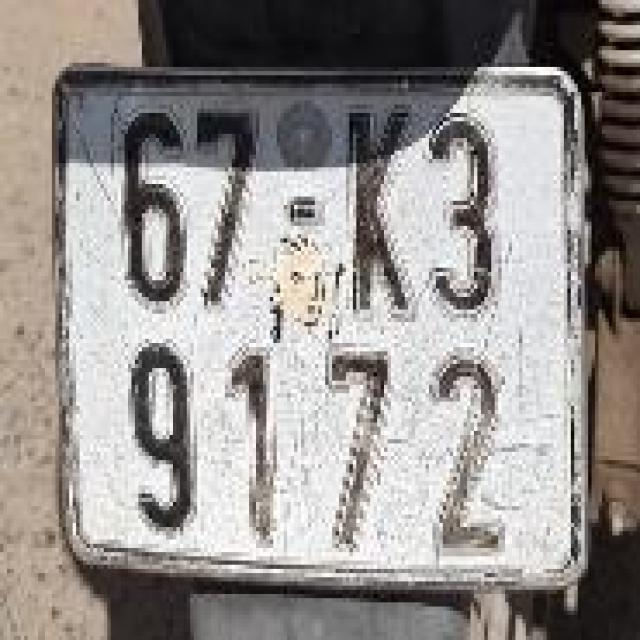1: (218, 328, 287, 562)
2: (426, 337, 516, 562)
3: (426, 96, 512, 322)
6: (104, 96, 194, 310)
7: (320, 339, 406, 569), (187, 82, 266, 299)
9: (107, 320, 211, 558)
K: (329, 92, 415, 322)
